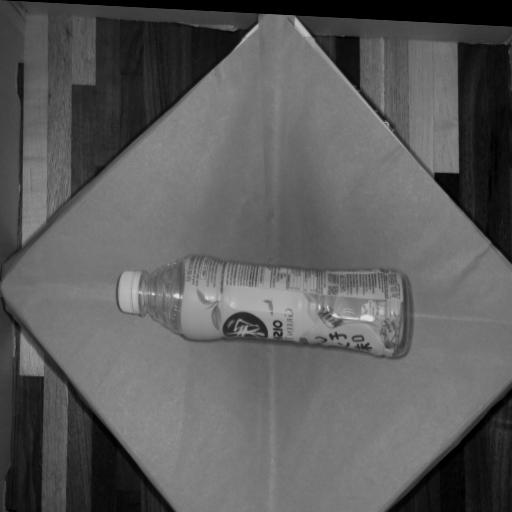bottle: (117, 256, 407, 356)
